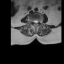CCS_normal: (35, 18, 36, 25)
LFS_stenosis: (37, 19, 39, 23)
LLS_normal: (36, 18, 37, 24)
RFS_normal: (32, 18, 33, 23)
RLS_normal: (33, 19, 35, 24)
